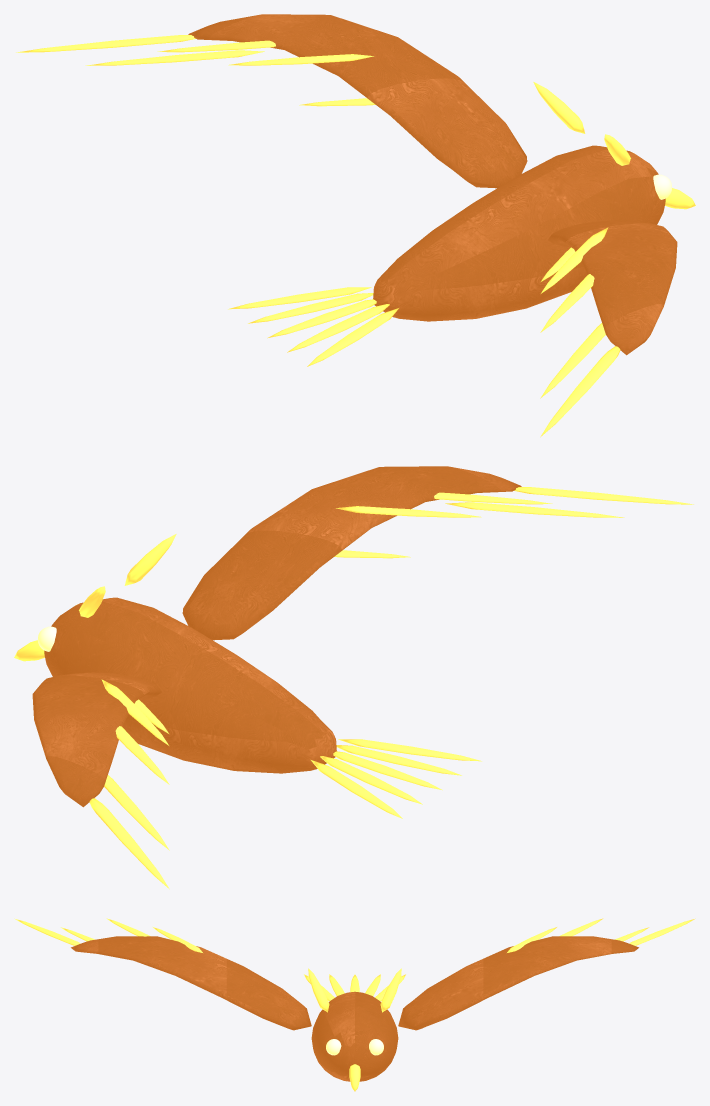
File: DuelProp_SpiritOwl.glb
3 renders of one model, top to bottom at view 1: azimuth 30°, elevation 25°; view 2: azimuth 150°, elevation 25°; view 3: azimuth 270°, elevation 25°, orthographic. The views are drawn at different scales.
Parts seen in each view (by area): view 1: DuelProp_SpiritOwl; view 2: DuelProp_SpiritOwl; view 3: DuelProp_SpiritOwl.
Boxes of the visible parts, bbox=[...] form: DuelProp_SpiritOwl: bbox=[16, 14, 695, 437]; DuelProp_SpiritOwl: bbox=[14, 466, 693, 889]; DuelProp_SpiritOwl: bbox=[14, 918, 695, 1091].
Bounding box in the file's own units: 1 × 0.4056 × 2.13.
Materials: 3 (1 with a texture image).
